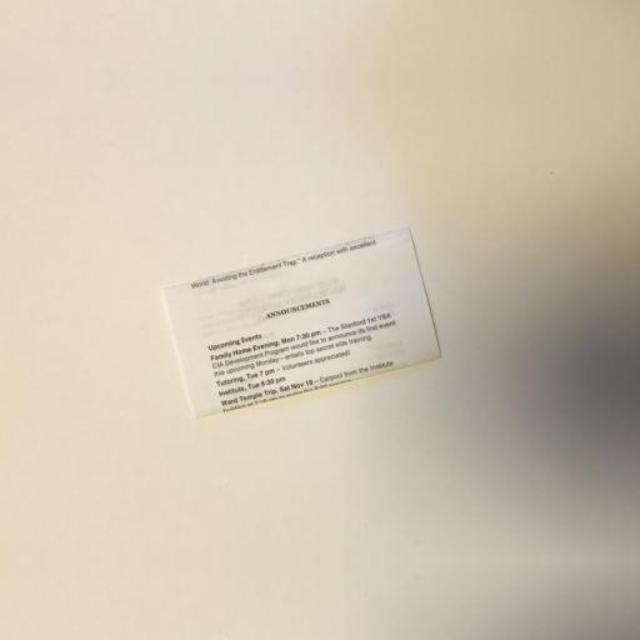paper: (100, 218, 456, 416)
